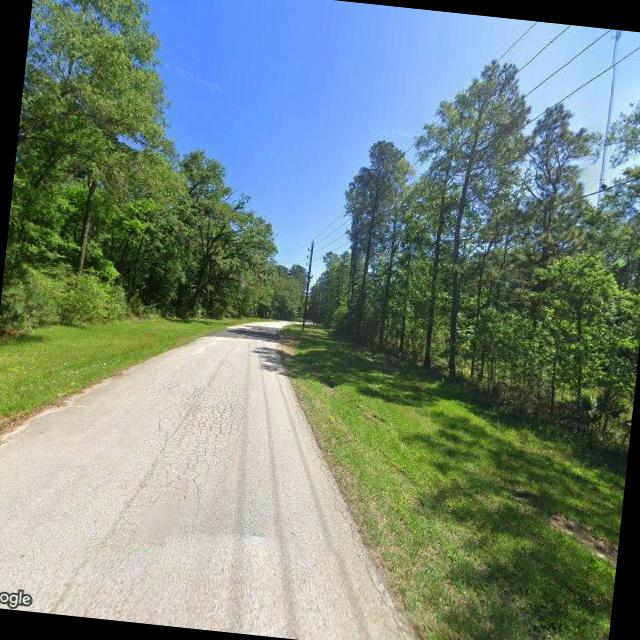crack: (130, 356, 252, 509)
